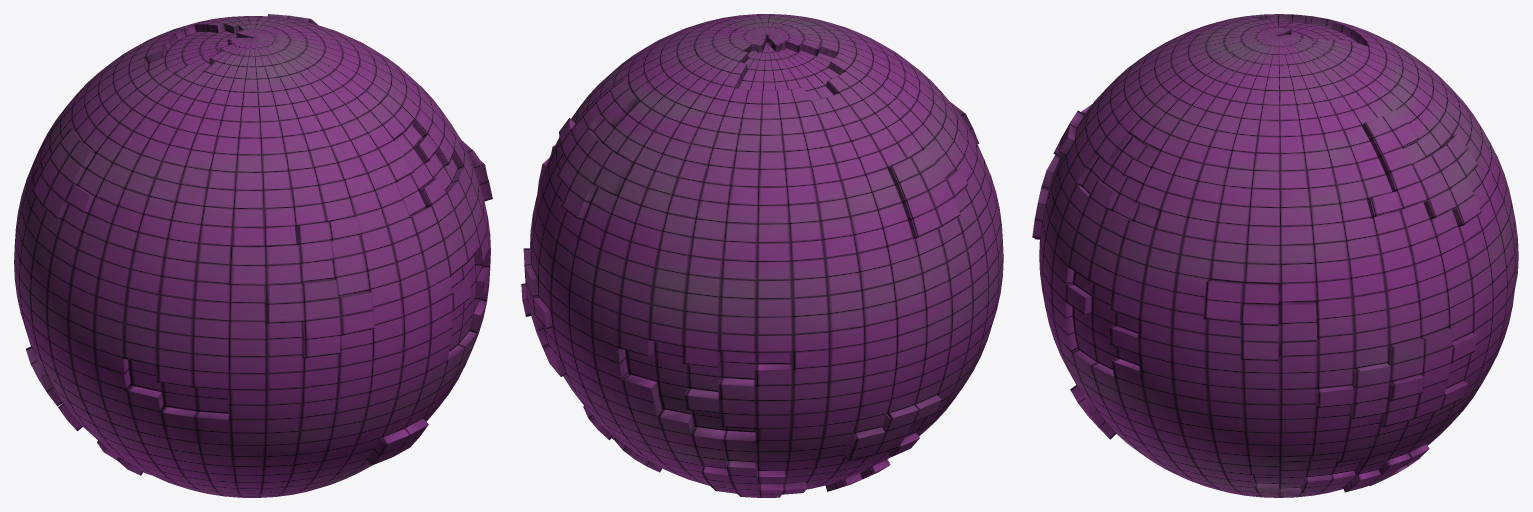
File: HomebaseFBXLevel3.fbx
The picture shows the model from 3 angles, left to right: view 1: azimuth 30°, elevation 25°; view 2: azimuth 150°, elevation 25°; view 3: azimuth 270°, elevation 25°; orthographic projection.
Visible parts, largest first — view 1: pSphere1; view 2: pSphere1; view 3: pSphere1.
Part boxes in pixels (<box>): pSphere1: <box>14,14,492,497</box>; pSphere1: <box>521,14,1003,497</box>; pSphere1: <box>1032,14,1518,497</box>.
Bounding box in the file's own units: 7.77 × 7.63 × 7.65.
Materials: 1 (1 with a texture image).
